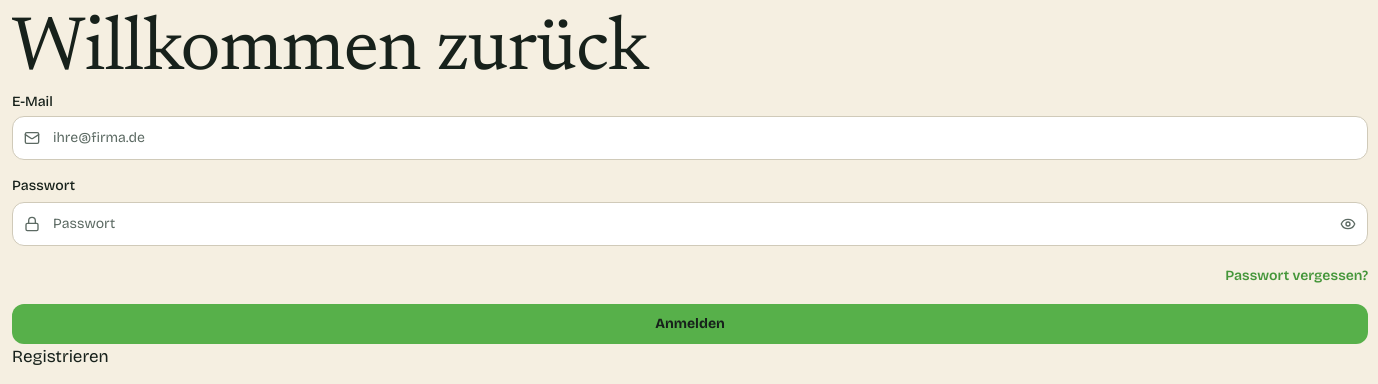
Test: LoginForm › renders login header and footer slots only in the login view
Expected: the heading "Willkommen zurück" is shown, [12,13,648,89]
Expected: the link "Registrieren" is shown, [12,346,109,367]
What coordinates should you click on to do the following:
click the button "Passwort vergessen?"
I would click on:
 (1297, 276)
Its box is [1225,266,1368,286].
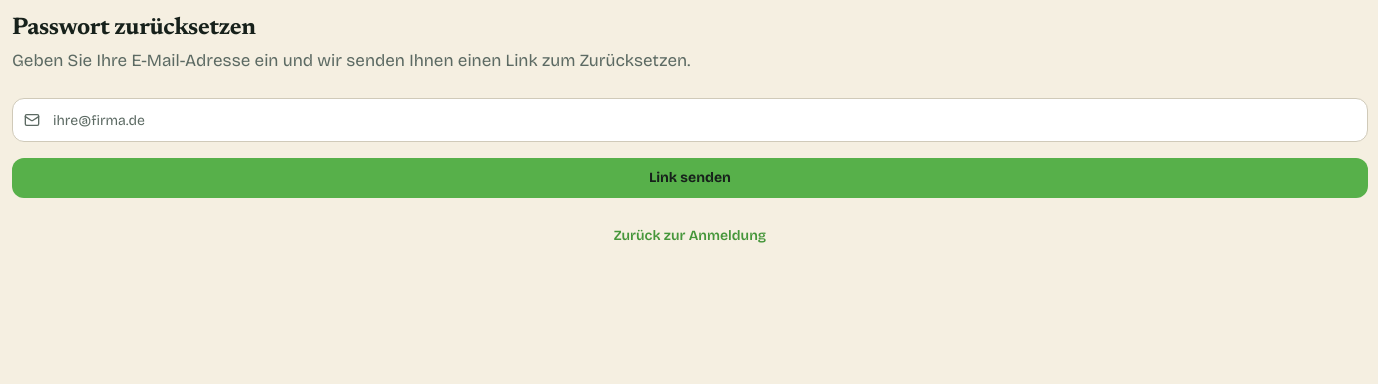
Expected: the heading "Willkommen zurück" is gone
